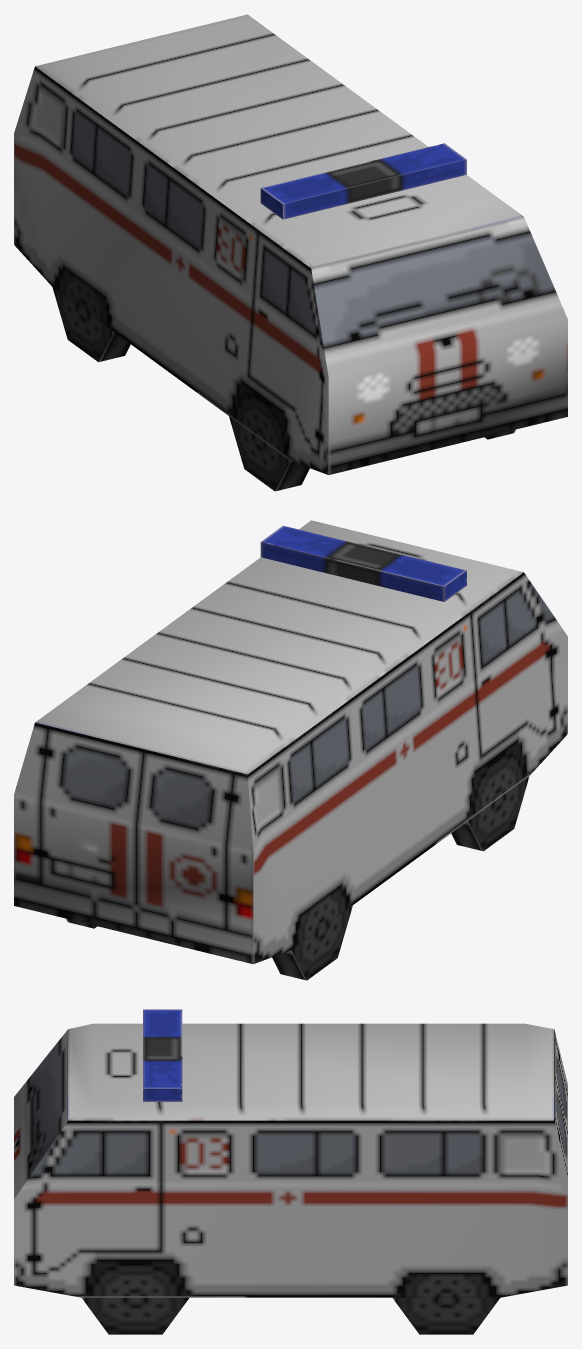
The model's file is buhanka_migalka.obj.
3 views of the same model, one above another, from view 1: azimuth 30°, elevation 25°; view 2: azimuth 150°, elevation 25°; view 3: azimuth 270°, elevation 25° (orthographic). The views are drawn at different scales.
Visible parts, largest first — view 1: Regroup01; view 2: Regroup01; view 3: Regroup01.
Part boxes in pixels (box(x1,y1,x2,y2)): Regroup01: box(14, 14, 567, 491); Regroup01: box(14, 520, 567, 980); Regroup01: box(14, 1009, 567, 1334).
Size of the model in its own units: 18 by 19.12 by 41.
Materials: 1 (1 with a texture image).
